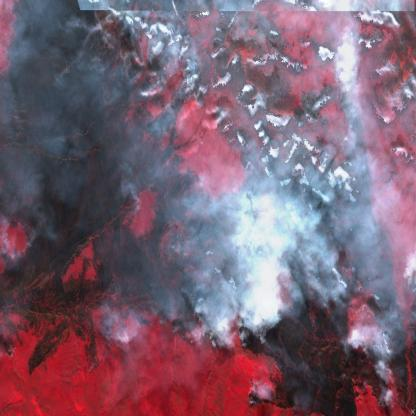fire: (177, 314, 273, 350), (374, 329, 394, 399), (336, 119, 354, 160), (247, 372, 258, 410)
